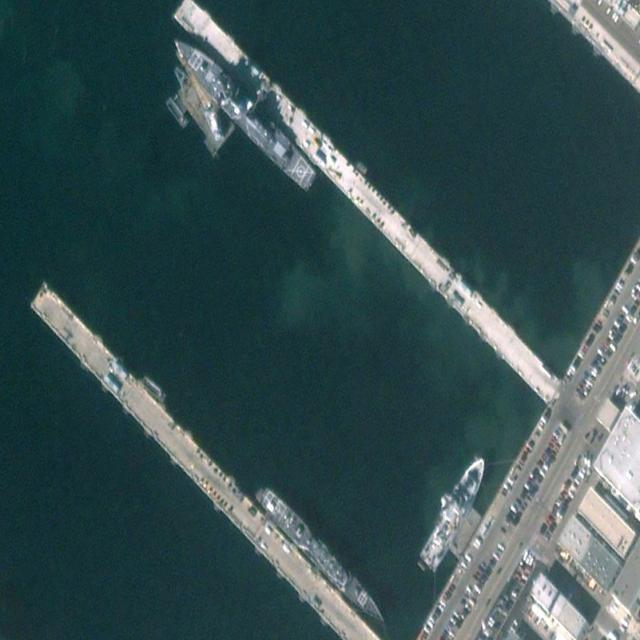Destroyer: (166, 25, 321, 194)
Frigate: (255, 483, 390, 631)
Other Ship: (418, 448, 494, 574)
